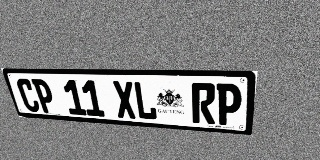1: (79, 80, 105, 117), (61, 80, 87, 115)
C: (15, 78, 41, 112)
L: (133, 81, 158, 120)
P: (216, 83, 242, 126), (31, 79, 57, 113)
R: (191, 83, 216, 124)
X: (112, 81, 137, 119)
